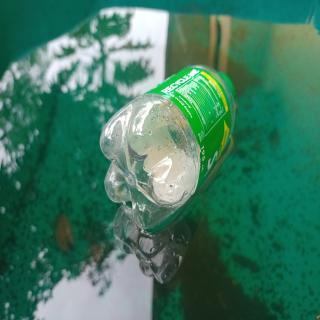bottle: (97, 59, 240, 232)
